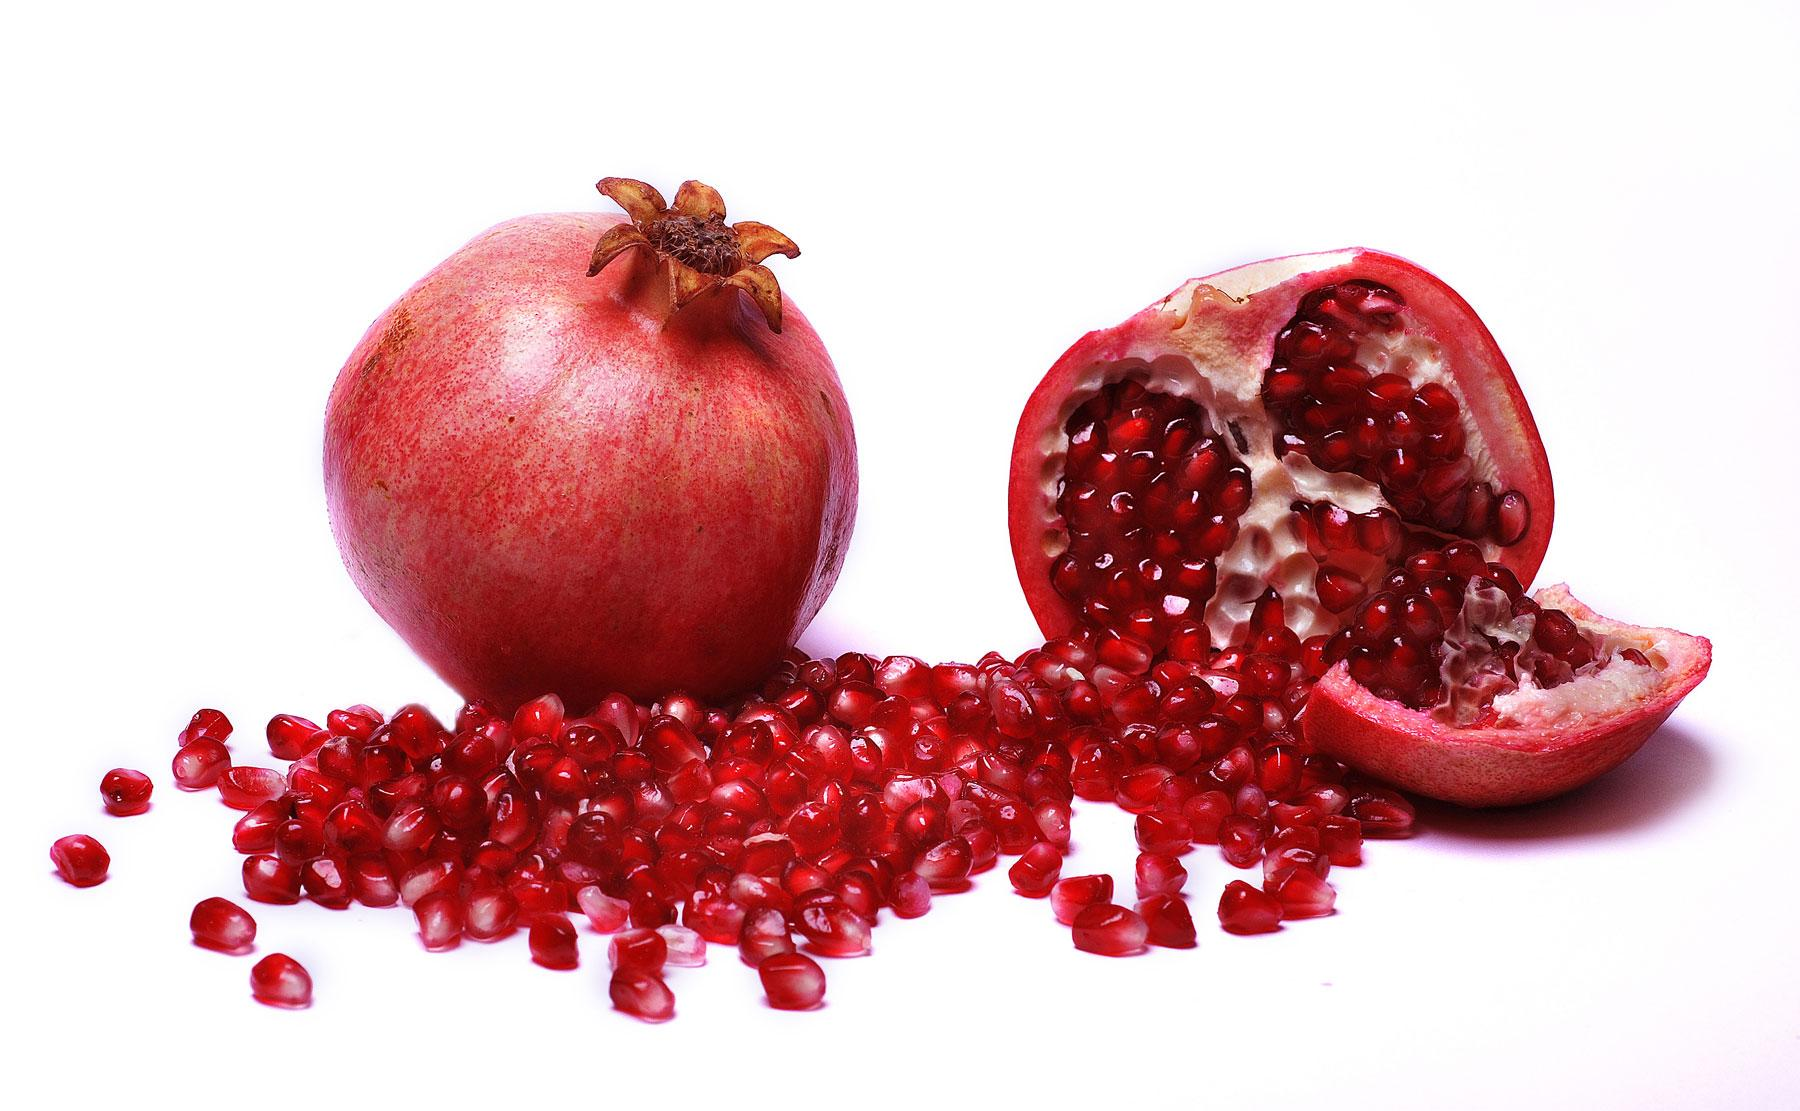pomegranate: (321, 175, 860, 719), (1005, 246, 1556, 661), (1002, 628, 1413, 943), (1301, 576, 1713, 808), (711, 651, 1074, 898), (993, 626, 1317, 815), (1129, 741, 1414, 932), (793, 892, 872, 957), (638, 715, 706, 777), (1071, 901, 1148, 955), (1263, 826, 1329, 887), (759, 952, 825, 1009), (777, 799, 842, 856), (189, 896, 256, 953), (608, 966, 675, 1022), (249, 952, 312, 1009), (1218, 878, 1283, 934), (1070, 739, 1128, 801), (387, 703, 446, 763), (738, 905, 795, 967), (1268, 869, 1337, 919), (321, 799, 383, 854), (624, 865, 678, 928), (231, 797, 291, 854), (1137, 892, 1197, 948), (49, 833, 111, 887), (912, 836, 973, 890), (681, 892, 744, 945), (1050, 873, 1113, 925), (399, 855, 462, 907), (1008, 840, 1063, 898), (171, 737, 231, 790), (1347, 790, 1414, 837), (411, 890, 463, 952), (240, 853, 301, 904), (217, 765, 287, 809), (1113, 763, 1174, 811), (528, 912, 579, 970), (607, 928, 669, 973), (301, 855, 352, 909), (1134, 808, 1193, 854), (510, 693, 563, 745), (348, 853, 399, 907), (266, 712, 323, 760), (1218, 813, 1268, 865), (1182, 790, 1232, 842), (99, 766, 153, 815), (576, 883, 630, 932), (1255, 743, 1302, 799), (1134, 851, 1188, 898), (274, 815, 324, 863), (1318, 814, 1363, 865), (327, 703, 384, 742), (780, 858, 834, 899), (657, 923, 707, 967), (888, 871, 932, 919), (1030, 797, 1072, 847), (177, 707, 231, 746), (627, 895, 678, 928), (454, 700, 500, 734)
